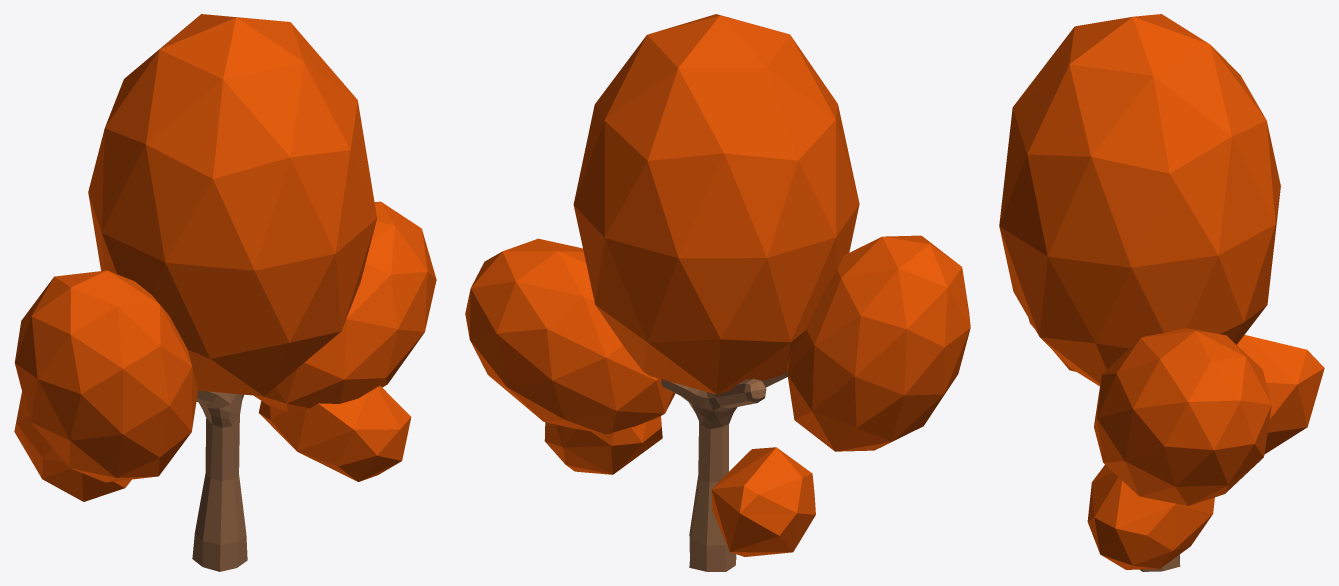
File: tree-autumn-complete-10-002.glb
3 renders of one model, left to right at view 1: azimuth 30°, elevation 25°; view 2: azimuth 150°, elevation 25°; view 3: azimuth 270°, elevation 25°, orthographic. The views are drawn at different scales.
Visible parts, largest first — view 1: TREE 10.003_383, TREE 10.002_420; view 2: TREE 10.003_383, TREE 10.002_420; view 3: TREE 10.003_383.
Part boxes in pixels (x1,y1,x2,y2): TREE 10.003_383: (14,14,436,501); TREE 10.002_420: (192,390,247,571); TREE 10.003_383: (465,14,970,556); TREE 10.002_420: (661,371,787,571); TREE 10.003_383: (999,14,1324,569).
Bounding box in the file's own units: 1.19 × 1.4 × 0.7525.
